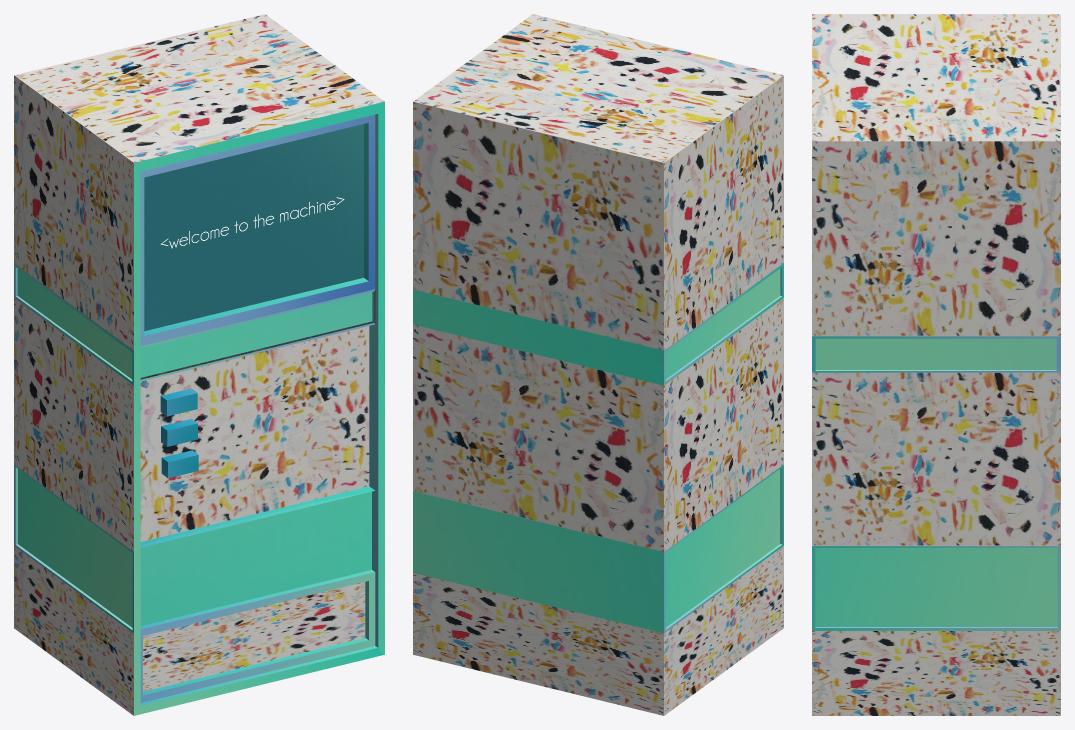
The model's file is machine2_v3.gltf.
The picture shows the model from 3 angles, left to right: view 1: azimuth 30°, elevation 25°; view 2: azimuth 150°, elevation 25°; view 3: azimuth 270°, elevation 25°; orthographic projection. The views are drawn at different scales.
Parts seen in each view (by area): view 1: Cube.006, Cube.008, Cube.010, Cube.009, Text; view 2: Cube.006; view 3: Cube.006.
Boxes of the visible parts, x1,y1,x2,y2 form: Cube.006: [14, 14, 384, 715]; Cube.008: [160, 388, 197, 416]; Cube.010: [161, 450, 198, 478]; Cube.009: [161, 419, 197, 446]; Text: [160, 197, 344, 248]; Cube.006: [413, 14, 783, 715]; Cube.006: [812, 14, 1060, 715].
Bounding box in the file's own units: 1.43 × 3.02 × 1.18.
4 materials, 3 textured.
